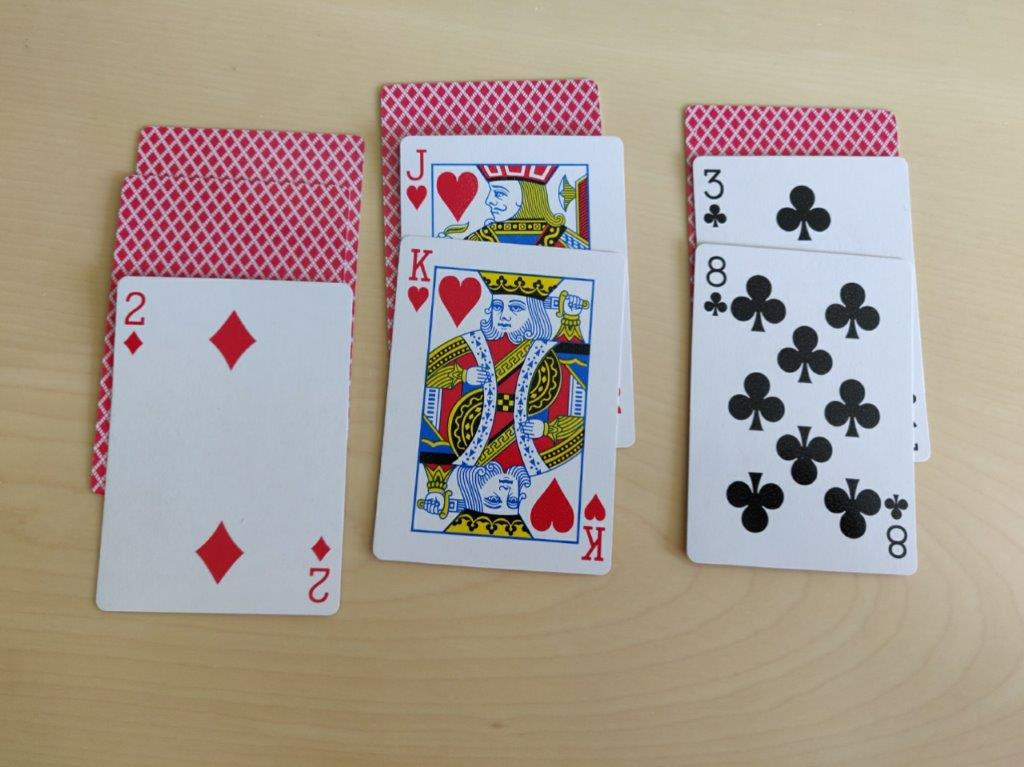2D: (119, 284, 151, 359)
3C: (698, 162, 728, 231)
8C: (700, 252, 730, 323)
BACK: (111, 174, 348, 281), (126, 129, 365, 184), (684, 103, 908, 160), (370, 79, 604, 131)
JH: (404, 142, 434, 213)
KH: (401, 244, 436, 321)
